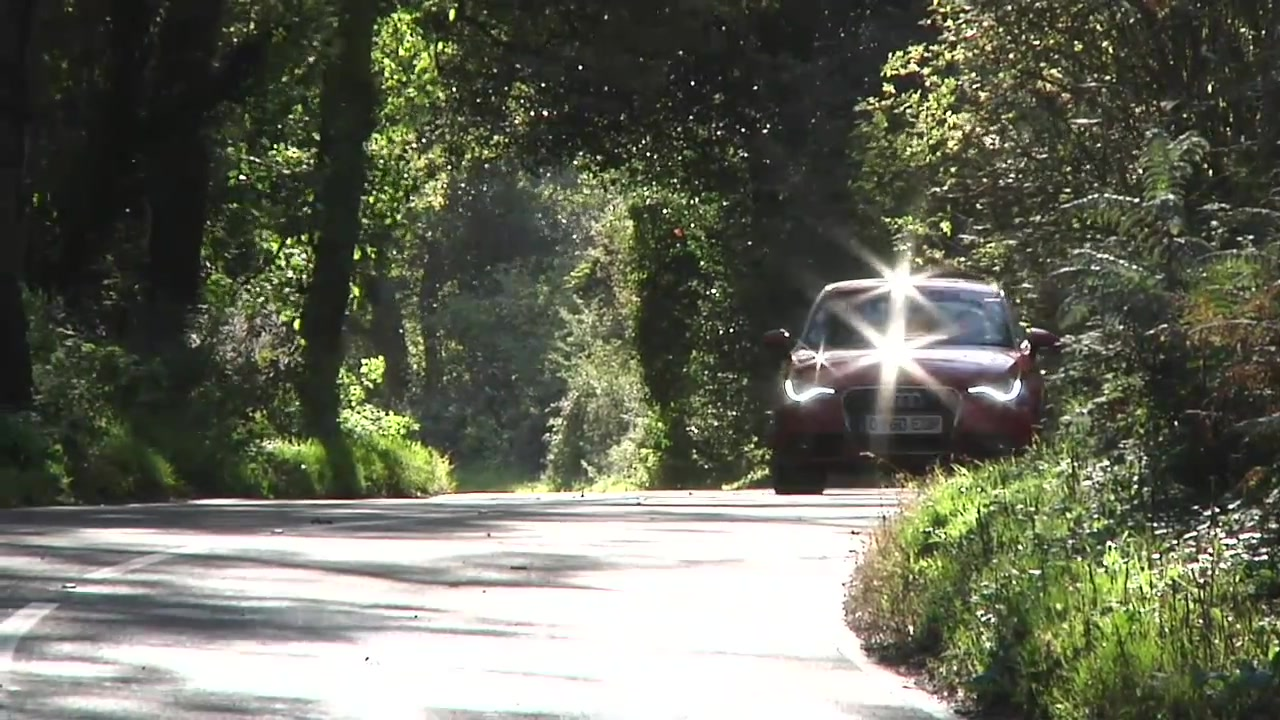car: (762, 268, 1049, 496)
